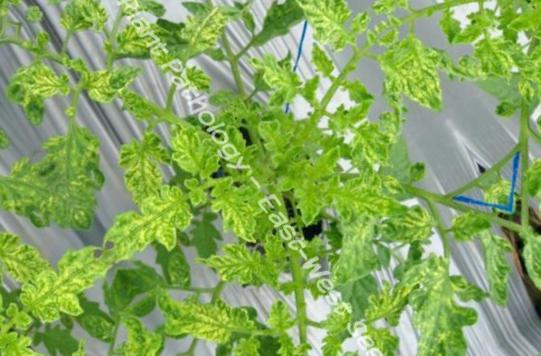Tomato leaf yellow virus: (284, 132, 411, 263), (355, 260, 508, 356), (32, 111, 146, 235), (135, 253, 255, 356), (91, 175, 204, 275), (362, 38, 455, 150), (200, 217, 299, 314), (449, 215, 538, 314), (269, 0, 379, 66), (318, 206, 403, 286), (155, 0, 242, 77), (100, 127, 179, 210), (0, 56, 73, 129), (158, 115, 228, 190), (203, 177, 272, 250), (77, 48, 149, 114), (244, 42, 308, 110), (46, 0, 122, 52), (94, 0, 189, 23), (307, 338, 368, 356)
